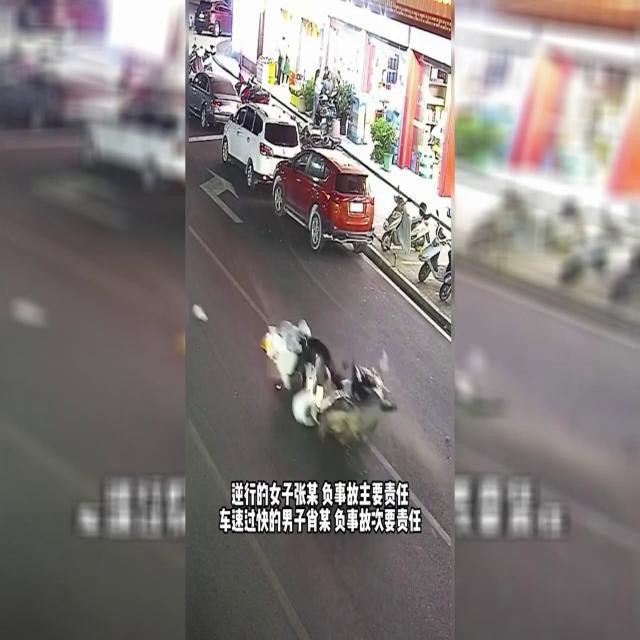accident: (254, 316, 408, 456)
non-accident: (188, 72, 374, 258), (382, 192, 454, 306)
